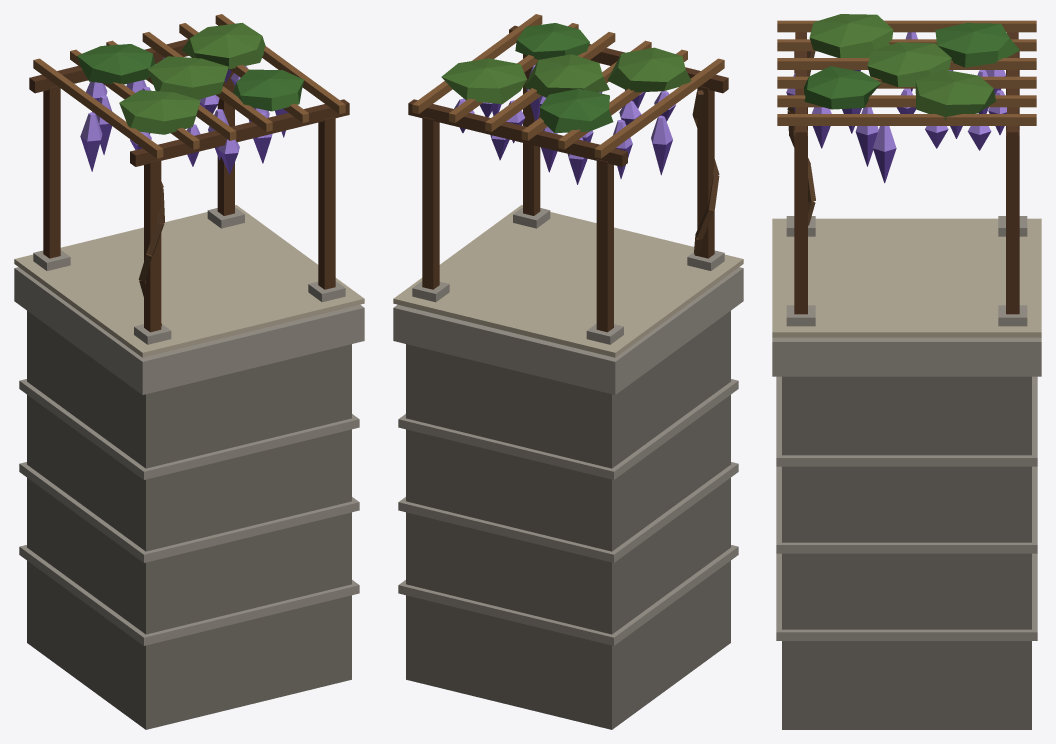
The model's file is decor_wisteria_pergola.glb.
3 renders of one model, left to right at view 1: azimuth 30°, elevation 25°; view 2: azimuth 150°, elevation 25°; view 3: azimuth 270°, elevation 25°, orthographic. The views are drawn at different scales.
Visible parts, largest first — view 1: decor_wisteria_pergola; view 2: decor_wisteria_pergola; view 3: decor_wisteria_pergola.
Part boxes in pixels (x1,y1,x2,y2): decor_wisteria_pergola: (14,14,364,729); decor_wisteria_pergola: (393,14,743,729); decor_wisteria_pergola: (772,14,1041,729).
Bounding box in the file's own units: 2.8 × 7.18 × 2.8.
